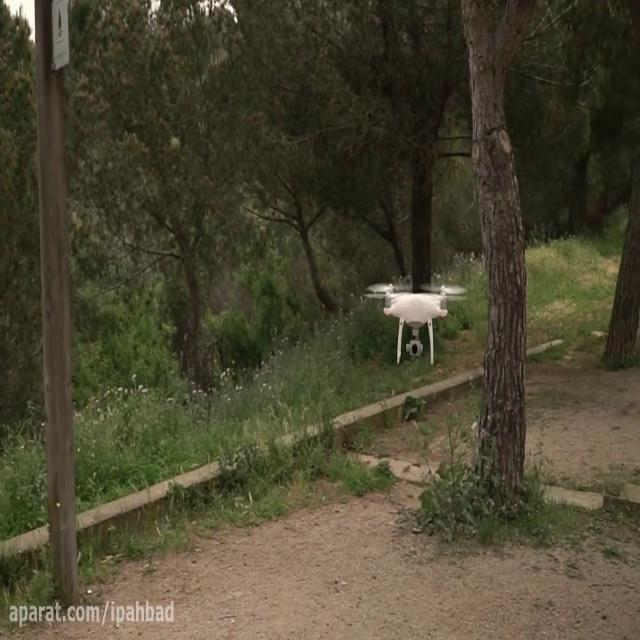drone: (362, 278, 468, 366)
